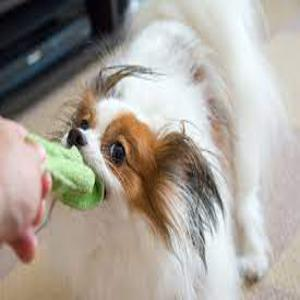yell: (48, 0, 278, 300)
